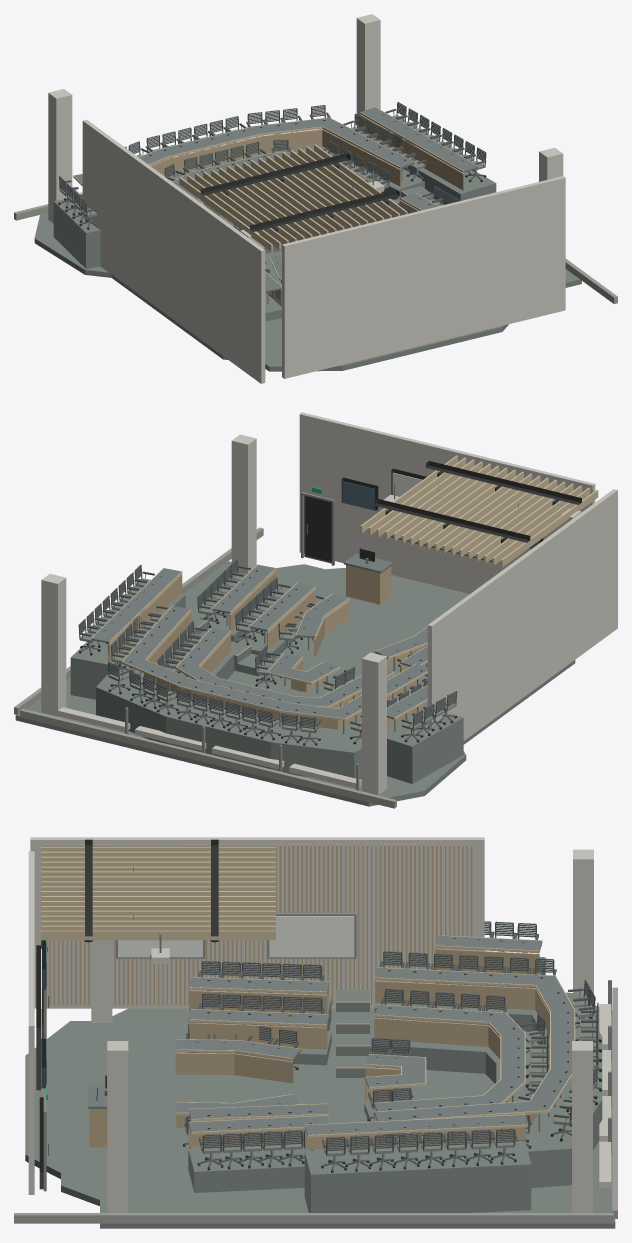
Rendered from mar-104-interior-74fa82a62a42.glb.
The picture shows the model from 3 angles, top to bottom: view 1: azimuth 30°, elevation 25°; view 2: azimuth 150°, elevation 25°; view 3: azimuth 270°, elevation 25°; orthographic projection. The views are drawn at different scales.
Visible parts, largest first — view 1: mar-104; view 2: mar-104; view 3: mar-104.
Part boxes in pixels (bbox=[...]): mar-104: bbox=[14, 14, 617, 383]; mar-104: bbox=[14, 412, 617, 808]; mar-104: bbox=[14, 837, 617, 1228].
Size of the model in its own units: 14.04 by 5.15 by 15.56.
